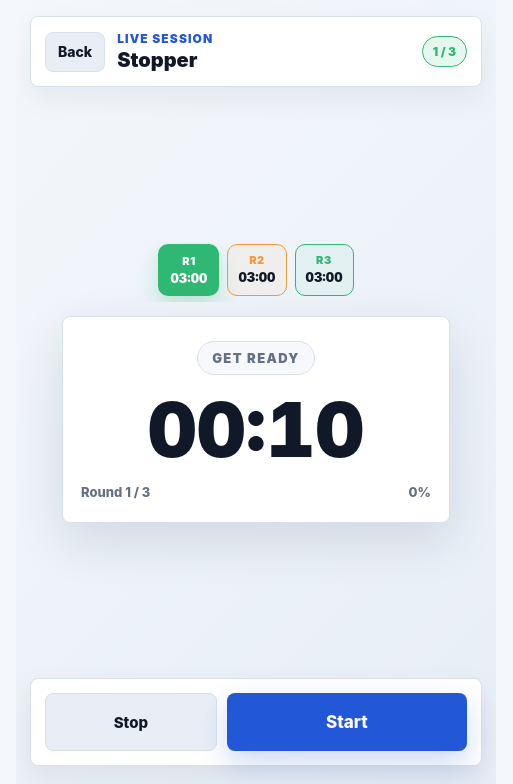
Test: SessionRunScreen › Stop resets to the start state and clears the saved run
Expected: the text "Stopper" is shown, [117, 48, 197, 72]
Click the button "Start". click: (347, 722)
box: [227, 693, 467, 751]
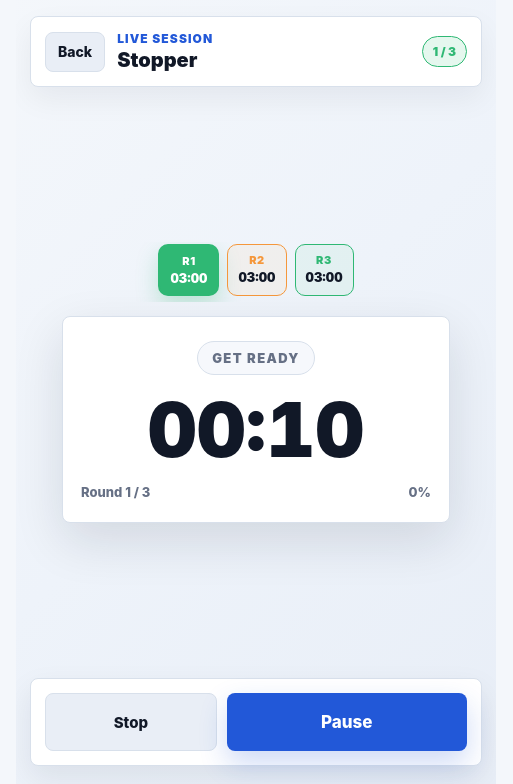
Click the button "Stop". click: (131, 722)
box: [45, 693, 217, 751]
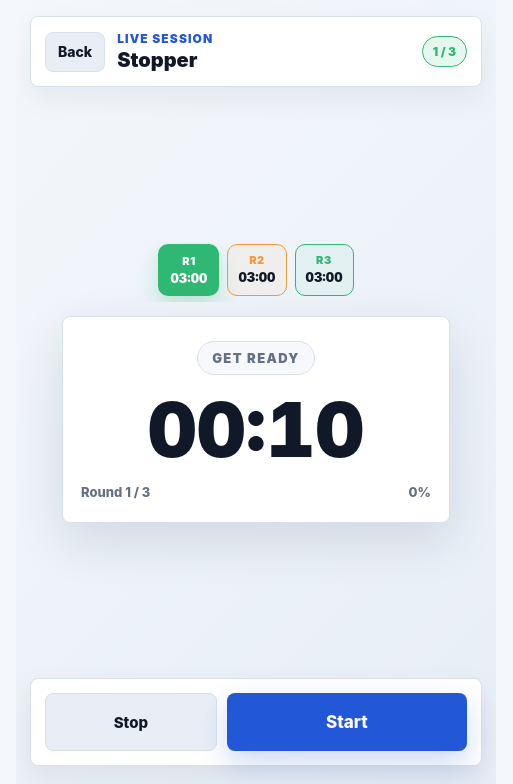
Now the button "Start" is shown, box [227, 693, 467, 751]
